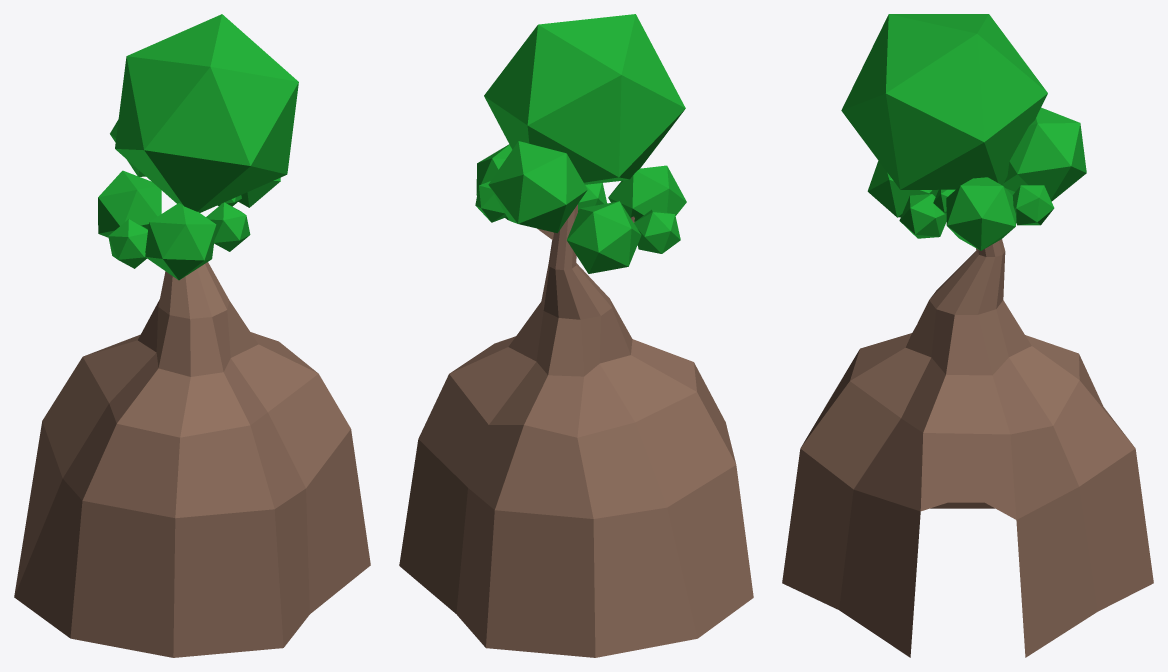
File: TreantHouse_NatureBarrack.fbx
3 renders of one model, left to right at view 1: azimuth 30°, elevation 25°; view 2: azimuth 150°, elevation 25°; view 3: azimuth 270°, elevation 25°, orthographic. The views are drawn at different scales.
Parts seen in each view (by area): view 1: House, Leaf, Leaf.004, Leaf.005, Leaf.006, Leaf.007; view 2: House, Leaf, Leaf.001, Leaf.005, Leaf.004, Leaf.006, Leaf.002, Leaf.003, Leaf.007; view 3: House, Leaf, Leaf.001, Leaf.002, Leaf.007, Leaf.003, Leaf.004.
Boxes of the visible parts, box(x1,y1,x2,y2) form: House: box(14, 262, 370, 657); Leaf: box(115, 14, 298, 212); Leaf.004: box(145, 203, 216, 280); Leaf.005: box(98, 170, 161, 237); Leaf.006: box(108, 219, 147, 268); Leaf.007: box(206, 202, 250, 251); House: box(399, 204, 753, 657); Leaf: box(484, 14, 685, 184); Leaf.001: box(488, 141, 587, 233); Leaf.005: box(567, 201, 641, 273); Leaf.004: box(608, 165, 686, 221); Leaf.006: box(634, 209, 680, 253); Leaf.002: box(476, 144, 512, 220); Leaf.003: box(475, 181, 506, 222); Leaf.007: box(578, 183, 607, 211); House: box(782, 239, 1153, 657); Leaf: box(841, 14, 1047, 189); Leaf.001: box(1003, 107, 1086, 201); Leaf.002: box(946, 177, 1015, 250); Leaf.007: box(899, 194, 946, 238); Leaf.003: box(1012, 185, 1054, 225); Leaf.004: box(867, 161, 938, 217).
Bounding box in the file's own units: 951 × 1681 × 1000.
